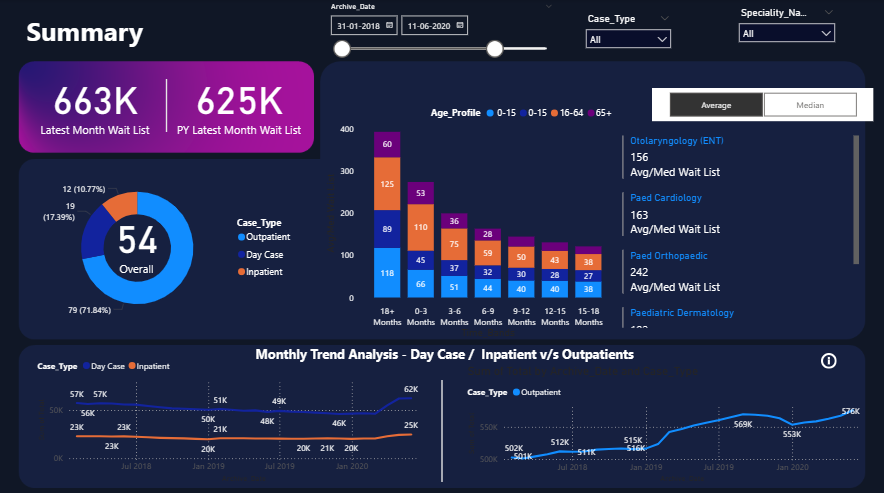

The dashboard page shown, as its layout file describes it:
{"tool":"powerbi","page":{"name":"Summary","canvas":[1280,720],"ordinal":0},"visuals":[{"type":"card","fields":{"Values":["All_Data.Latest Month Wait List"]},"box":[34.7,95.4,208.2,111.3],"z":0},{"type":"card","fields":{"Values":["All_Data.PY Latest Month Wait List"]},"box":[242.9,95.4,208.2,111.3],"z":1000},{"type":"slicer","fields":{"Values":["Calculation Method.Calc Method"]},"box":[944,128,320,48],"z":2000},{"type":"donutChart","fields":{"Category":["All_Data.Case_Type"],"Y":["All_Data.Avg/Med Wait List"]},"box":[50.6,240,384.6,240],"z":3000},{"type":"columnChart","fields":{"Y":["All_Data.Avg/Med Wait List"],"Category":["All_Data.Time_Bands"],"Series":["All_Data.Age_Profile"]},"box":[467,144.6,429.4,351.3],"z":4000},{"type":"multiRowCard","fields":{"Values":["All_Data.Speciality_Name","All_Data.Avg/Med Wait List"]},"box":[896,192,352,288],"z":5000},{"type":"lineChart","fields":{"Category":["All_Data.Archive_Date"],"Y":["Sum(All_Data.Total)"],"Series":["All_Data.Case_Type"]},"box":[50,510,574.3,192.9],"z":6000},{"type":"lineChart","fields":{"Category":["All_Data.Archive_Date"],"Y":["Sum(All_Data.Total)"],"Series":["All_Data.Case_Type"]},"box":[672.3,527.7,591.3,176.4],"z":7000},{"type":"slicer","fields":{"Values":["All_Data.Archive_Date"]},"box":[467,0,345.5,88.2],"z":8000},{"type":"slicer","fields":{"Values":["All_Data.Case_Type"]},"box":[838.6,15.9,143.1,63.6],"z":9000},{"type":"slicer","fields":{"Values":["All_Data.Speciality_Name"]},"box":[1059.8,7.2,159,79.5],"z":10000},{"type":"textbox","box":[34.7,15.9,209.6,70.8],"z":11000},{"type":"card","fields":{"Values":["All_Data.Avg/Med Wait List"]},"box":[138.8,300.7,120,101.2],"z":12000},{"type":"shape","box":[156.1,115.7,172,76.6],"z":13000},{"type":"shape","box":[516.1,550.8,248.7,147.5],"z":14000},{"type":"textbox","box":[365.7,495.7,615.7,42.9],"z":15000},{"type":"actionButton","box":[1184.3,507.1,34.3,31.4],"z":15001}]}

Visuals, with their boxes in screenshot pixels (x1, y1, x2, y2), scaled from the page's 1280x720 canvas onto the 884x493 screenshot:
card - All_Data.Latest Month Wait List: {"x1": 24, "y1": 65, "x2": 168, "y2": 142}
card - All_Data.PY Latest Month Wait List: {"x1": 168, "y1": 65, "x2": 312, "y2": 142}
slicer - Calculation Method.Calc Method: {"x1": 652, "y1": 88, "x2": 873, "y2": 121}
donutChart - All_Data.Case_Type x All_Data.Avg/Med Wait List: {"x1": 35, "y1": 164, "x2": 301, "y2": 329}
columnChart - All_Data.Avg/Med Wait List x All_Data.Time_Bands: {"x1": 323, "y1": 99, "x2": 619, "y2": 340}
multiRowCard - All_Data.Speciality_Name x All_Data.Avg/Med Wait List: {"x1": 619, "y1": 131, "x2": 862, "y2": 329}
lineChart - All_Data.Archive_Date x Sum(All_Data.Total): {"x1": 35, "y1": 349, "x2": 431, "y2": 481}
lineChart - All_Data.Archive_Date x Sum(All_Data.Total): {"x1": 464, "y1": 361, "x2": 873, "y2": 482}
slicer - All_Data.Archive_Date: {"x1": 323, "y1": 0, "x2": 561, "y2": 60}
slicer - All_Data.Case_Type: {"x1": 579, "y1": 11, "x2": 678, "y2": 54}
slicer - All_Data.Speciality_Name: {"x1": 732, "y1": 5, "x2": 842, "y2": 59}
textbox: {"x1": 24, "y1": 11, "x2": 169, "y2": 59}
card - All_Data.Avg/Med Wait List: {"x1": 96, "y1": 206, "x2": 179, "y2": 275}
shape: {"x1": 108, "y1": 79, "x2": 227, "y2": 132}
shape: {"x1": 356, "y1": 377, "x2": 528, "y2": 478}
textbox: {"x1": 253, "y1": 339, "x2": 678, "y2": 369}
actionButton: {"x1": 818, "y1": 347, "x2": 842, "y2": 369}
